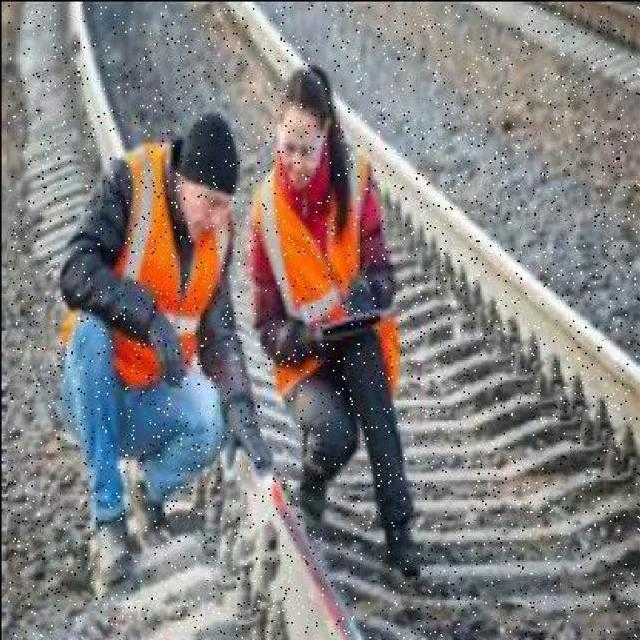rail: (9, 6, 640, 637)
